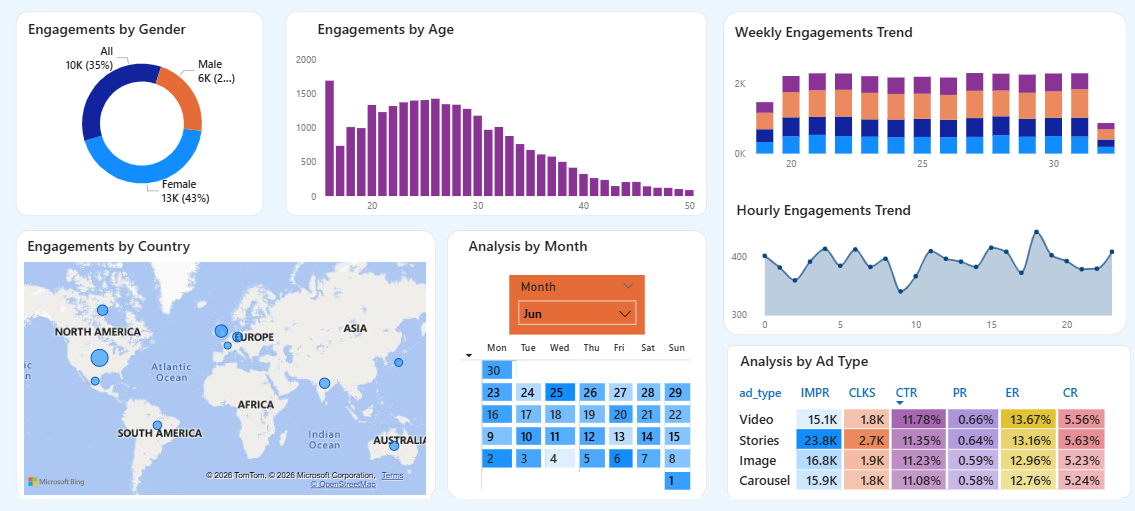

This screenshot's page, from the dashboard's own definition file:
{"tool":"powerbi","page":{"name":"Instagram","canvas":[1570,900],"ordinal":1},"visuals":[{"type":"textbox","box":[108.5,10.7,634.3,62.7],"z":0},{"type":"image","box":[19.9,9.2,88.7,64.2],"z":1000},{"type":"shape","box":[1293.1,84.1,259.9,799.4],"z":2000},{"type":"cardVisual","fields":{"Data":["ad_events.Impressions","ad_events.Clicks","ad_events.Share","ad_events.Comment","ad_events.Purchase","ad_events.Engagements"]},"box":[19.9,84.1,1265.6,120.8],"z":3000},{"type":"cardVisual","fields":{"Data":["ad_events.CTR (click Through Rate)","ad_events.Engagement Rate","ad_events.Conversion Rate","ad_events.Purchase Rate","ad_events.Total Budget","ad_events.Avg. Budget Per Campaign"]},"box":[19.9,204.8,1265.6,120.8],"z":4000},{"type":"slicer","fields":{"Values":["Parameter.Parameter"]},"box":[1316.1,379.1,221.6,76.4],"z":5000},{"type":"shape","box":[19.9,333.2,279.7,230.8],"z":6000},{"type":"donutChart","fields":{"Y":["ad_events.Engagements"],"Category":["ads.target_gender"]},"box":[30.6,362.3,262.9,197.2],"z":7000},{"type":"card","fields":{"Values":["ad_events.Gender Title"]},"box":[19.9,339.3,206.4,32.1],"z":8000},{"type":"shape","box":[324.1,333.2,475,230.8],"z":9000},{"type":"columnChart","fields":{"Y":["ad_events.Engagements"],"Category":["users.user_age"]},"box":[331.7,374.5,460.1,195.7],"z":10000},{"type":"card","fields":{"Values":["ad_events.Age Title"]},"box":[314.9,334.8,246.1,39.7],"z":11000},{"type":"shape","box":[19.9,580.8,473.8,302.7],"z":12000},{"type":"map","fields":{"Size":["ad_events.Engagements"],"Category":["users.country"]},"box":[24.5,611.4,463.1,272.1],"z":13000},{"type":"card","fields":{"Values":["ad_events.Map Title"]},"box":[24.5,580.8,201.8,39.7],"z":14000},{"type":"shape","box":[505.9,580.8,293.5,302.7],"z":15000},{"type":"pivotTable","fields":{"Rows":["Calendar Table.Weeek Num"],"Columns":["Calendar Table.Day Name"],"Values":["Min(Calendar Table.Day Number)"]},"box":[516.6,698.5,275.1,185],"z":16000},{"type":"slicer","fields":{"Values":["Calendar Table.Month"]},"box":[576.3,631.3,152.9,67.3],"z":17000},{"type":"card","fields":{"Values":["ad_events.Calendar Title"]},"box":[505.9,580.8,183.4,39.7],"z":18000},{"type":"shape","box":[817.8,333.2,455.5,365],"z":19000},{"type":"columnChart","fields":{"Y":["ad_events.Engagements"],"Category":["Calendar Table.Weeek Num"],"Series":["ads.ad_type"]},"box":[825.4,362.3,440.2,160.5],"z":20000},{"type":"card","fields":{"Values":["ad_events.Weekly Title"]},"box":[817.8,339.3,227.8,39.7],"z":21000},{"type":"areaChart","fields":{"Y":["ad_events.Engagements"],"Category":["ad_events.Event Hour"]},"box":[820.8,564,449.4,140.6],"z":22000},{"type":"card","fields":{"Values":["ad_events.Hourly Title"]},"box":[817.8,539.6,227.8,39.7],"z":23000},{"type":"shape","box":[820.8,710.8,455.5,172.7],"z":24000},{"type":"pivotTable","fields":{"Rows":["ads.ad_type"],"Values":["ad_events.Impressions","ad_events.Clicks","ad_events.CTR (click Through Rate)","ad_events.Purchase Rate","ad_events.Engagement Rate","ad_events.Conversion Rate"]},"box":[825.4,747.5,440.2,136],"z":25000},{"type":"card","fields":{"Values":["ad_events.Matrix Title"]},"box":[817.8,710.8,183.4,39.7],"z":26000},{"type":"image","box":[1314.5,84.1,217.1,102.4],"z":27000},{"type":"slicer","fields":{"Values":["campaigns.name"]},"box":[1317.6,499.8,220.1,70.3],"z":28000},{"type":"slicer","fields":{"Values":["ads.target_interests"]},"box":[1316.1,611.4,220.1,70.3],"z":29000}]}

Visuals, with their boxes on the page's 1570x900 design canvas (x1, y1, x2, y2). These are canvas units, not pixel positions in the 1135x511 screenshot, which may show the page scaled, cropped or inside an application window:
textbox: l=108, t=11, r=743, b=73
image: l=20, t=9, r=109, b=73
shape: l=1293, t=84, r=1553, b=884
cardVisual - ad_events.Impressions x ad_events.Clicks: l=20, t=84, r=1286, b=205
cardVisual - ad_events.CTR (click Through Rate) x ad_events.Engagement Rate: l=20, t=205, r=1286, b=326
slicer - Parameter.Parameter: l=1316, t=379, r=1538, b=456
shape: l=20, t=333, r=300, b=564
donutChart - ad_events.Engagements x ads.target_gender: l=31, t=362, r=294, b=560
card - ad_events.Gender Title: l=20, t=339, r=226, b=371
shape: l=324, t=333, r=799, b=564
columnChart - ad_events.Engagements x users.user_age: l=332, t=374, r=792, b=570
card - ad_events.Age Title: l=315, t=335, r=561, b=374
shape: l=20, t=581, r=494, b=884
map - ad_events.Engagements x users.country: l=24, t=611, r=488, b=884
card - ad_events.Map Title: l=24, t=581, r=226, b=620
shape: l=506, t=581, r=799, b=884
pivotTable - Calendar Table.Weeek Num x Calendar Table.Day Name: l=517, t=698, r=792, b=884
slicer - Calendar Table.Month: l=576, t=631, r=729, b=699
card - ad_events.Calendar Title: l=506, t=581, r=689, b=620
shape: l=818, t=333, r=1273, b=698
columnChart - ad_events.Engagements x Calendar Table.Weeek Num: l=825, t=362, r=1266, b=523
card - ad_events.Weekly Title: l=818, t=339, r=1046, b=379
areaChart - ad_events.Engagements x ad_events.Event Hour: l=821, t=564, r=1270, b=705
card - ad_events.Hourly Title: l=818, t=540, r=1046, b=579
shape: l=821, t=711, r=1276, b=884
pivotTable - ads.ad_type x ad_events.Impressions: l=825, t=748, r=1266, b=884
card - ad_events.Matrix Title: l=818, t=711, r=1001, b=750
image: l=1314, t=84, r=1532, b=186
slicer - campaigns.name: l=1318, t=500, r=1538, b=570
slicer - ads.target_interests: l=1316, t=611, r=1536, b=682
